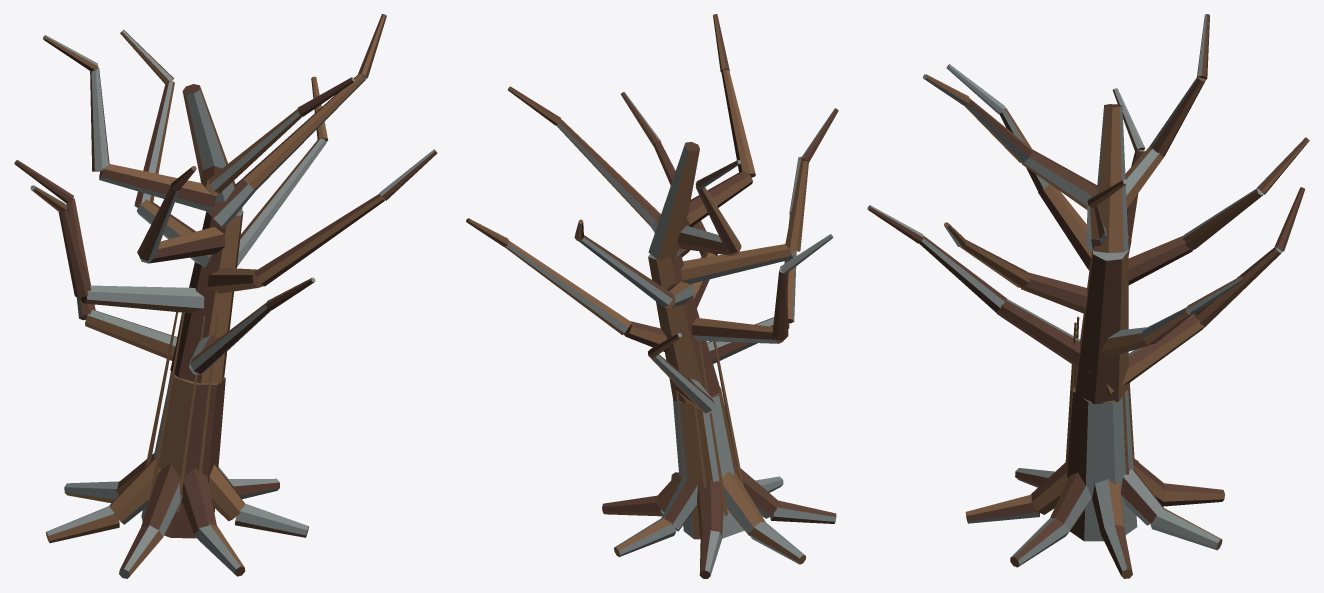
The model's file is dead_tree_c.glb.
The picture shows the model from 3 angles, left to right: view 1: azimuth 30°, elevation 25°; view 2: azimuth 150°, elevation 25°; view 3: azimuth 270°, elevation 25°; orthographic projection. The views are drawn at different scales.
Visible parts, largest first — view 1: dead_tree_c; view 2: dead_tree_c; view 3: dead_tree_c.
Boxes of the visible parts, x1=… form: dead_tree_c: x1=14, y1=14, x2=437, y2=578; dead_tree_c: x1=466, y1=14, x2=838, y2=578; dead_tree_c: x1=867, y1=14, x2=1309, y2=578.
Size of the model in its own units: 2.65 by 3.48 by 2.81.
